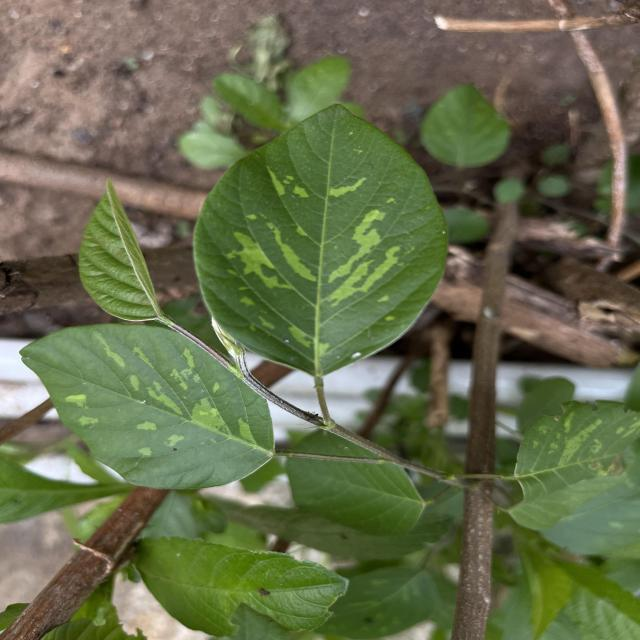Desmodium gangeticum: (188, 98, 454, 384), (15, 318, 278, 492)
